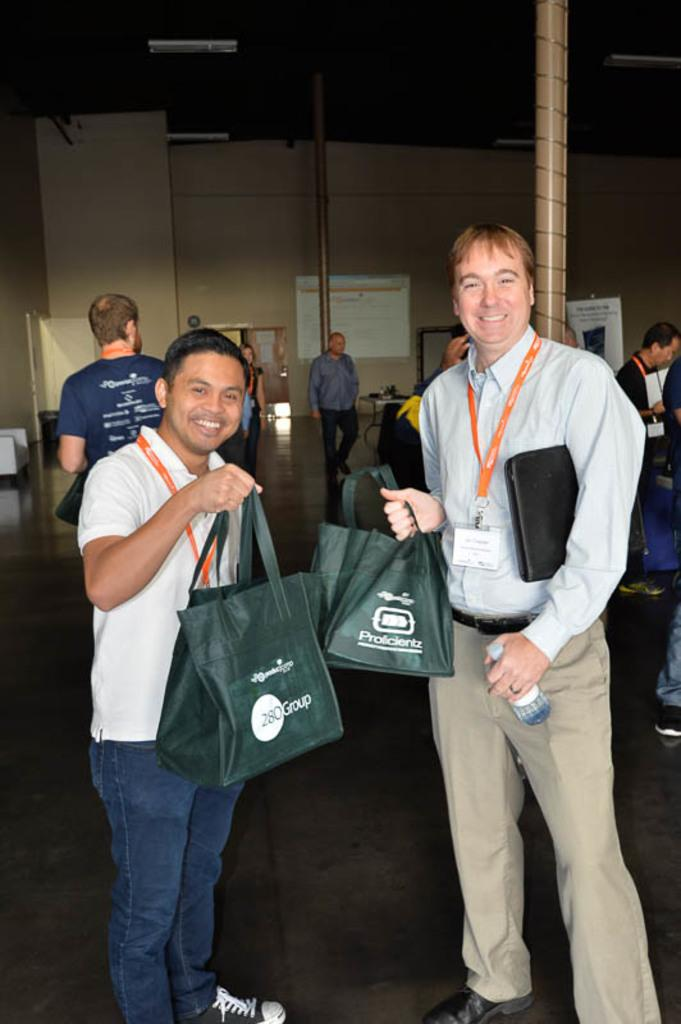Luggage-and-bags: (127, 516, 349, 852), (310, 465, 458, 675)
